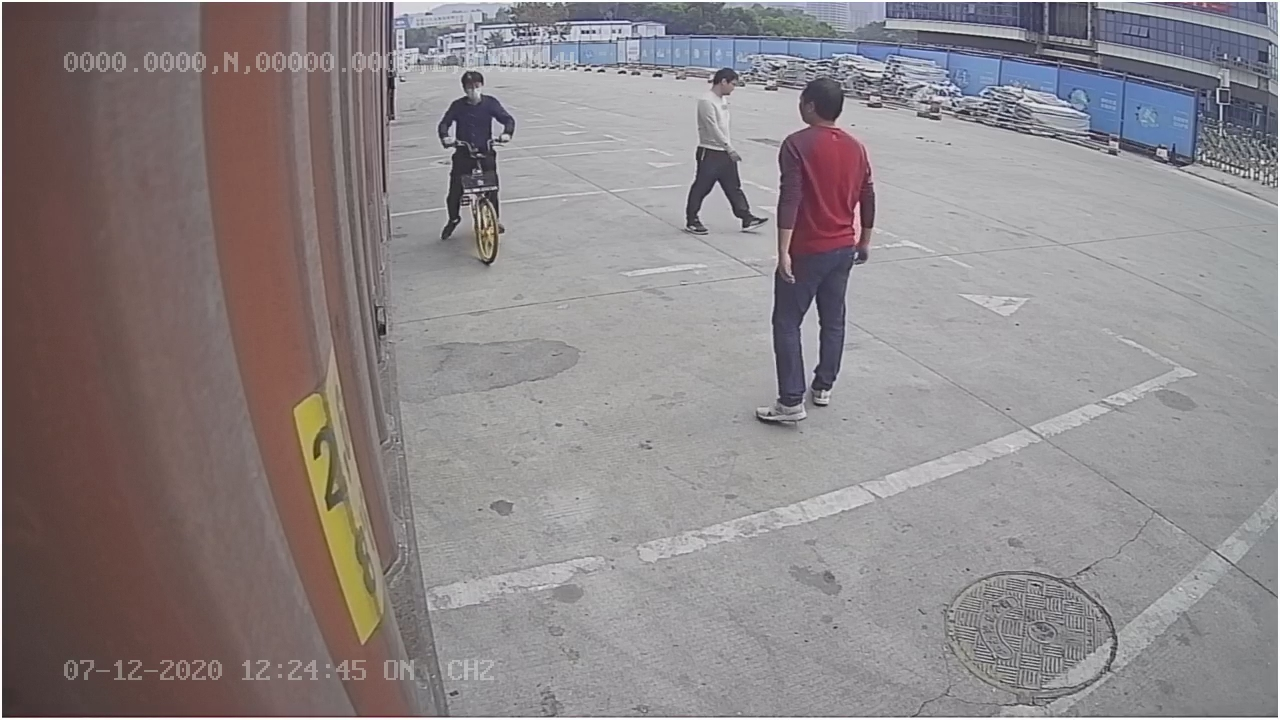person: (759, 76, 877, 425), (679, 67, 772, 238)
